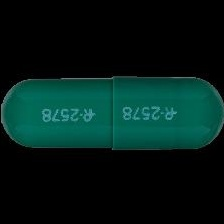21695-803: (0, 0, 224, 224)
